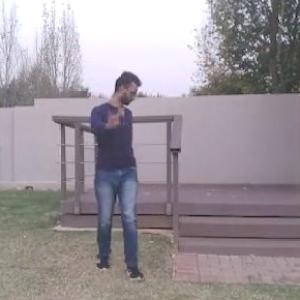takeoff-hand: (99, 100, 124, 131)
